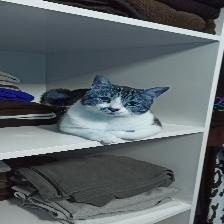kedo: (41, 74, 170, 143)
